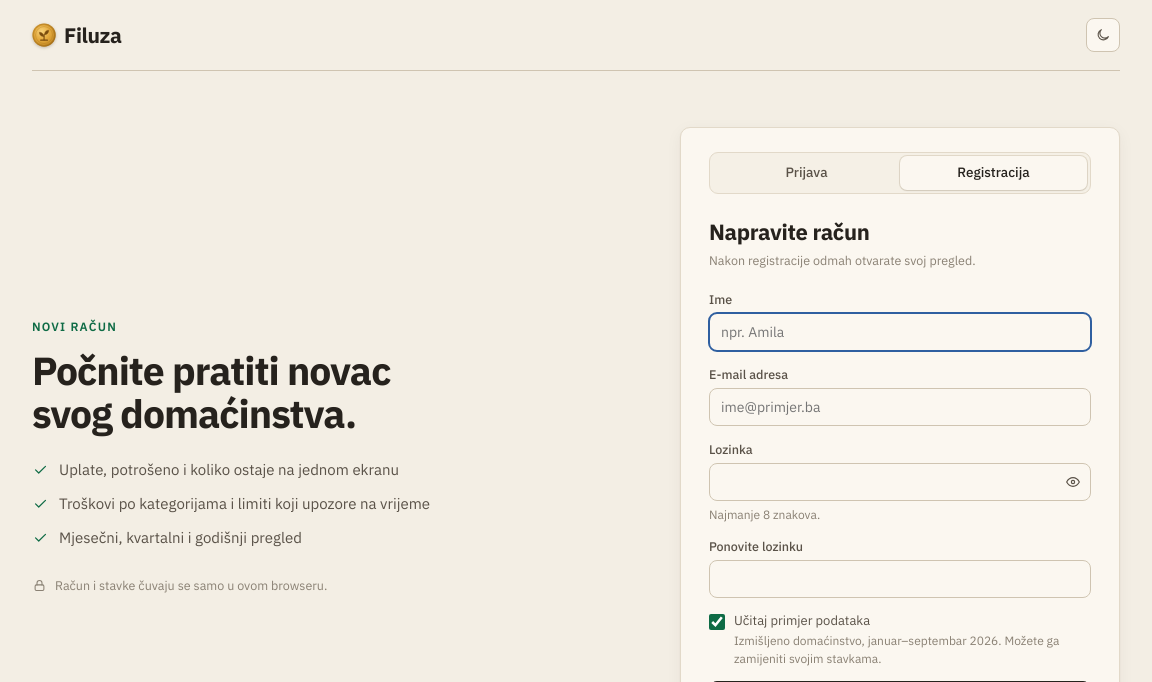
Scenario: registracija › isti e-mail se ne može registrovati dvaput
The image size is (1152, 682).
Type "Druga Amila" into the field labelled "Ime" at (900, 332), box [709,313,1091,351]
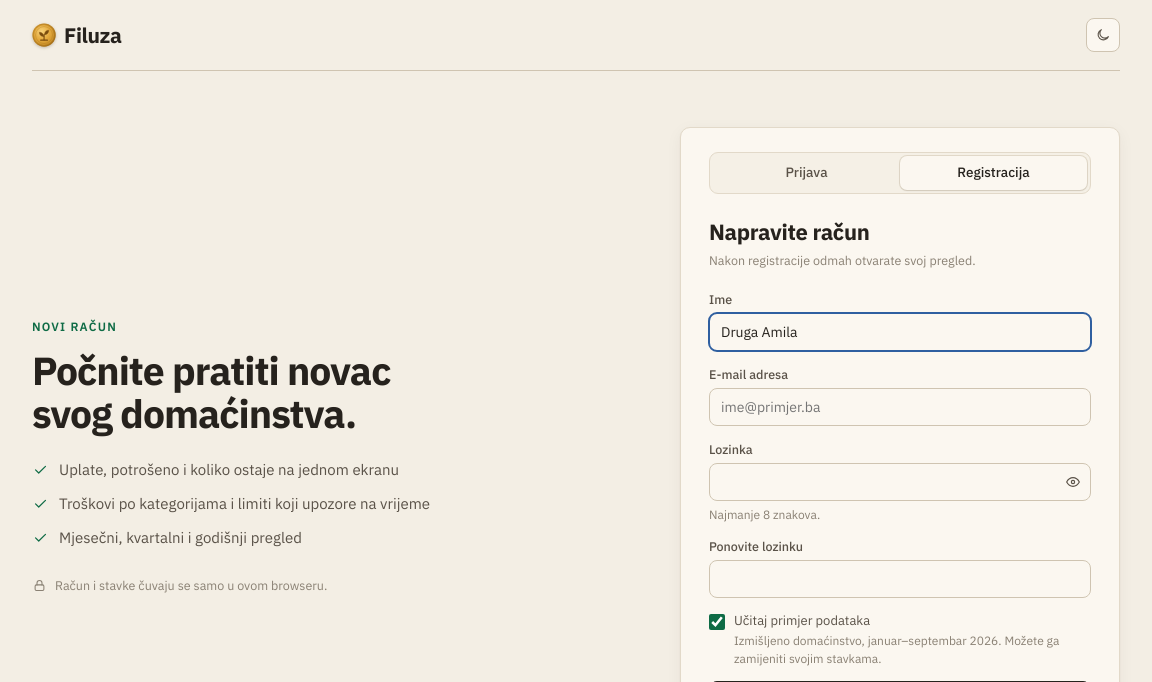
Type "Amila@Primjer.ba" into the field labelled "E-mail adresa" at (900, 407), box [709,388,1091,426]
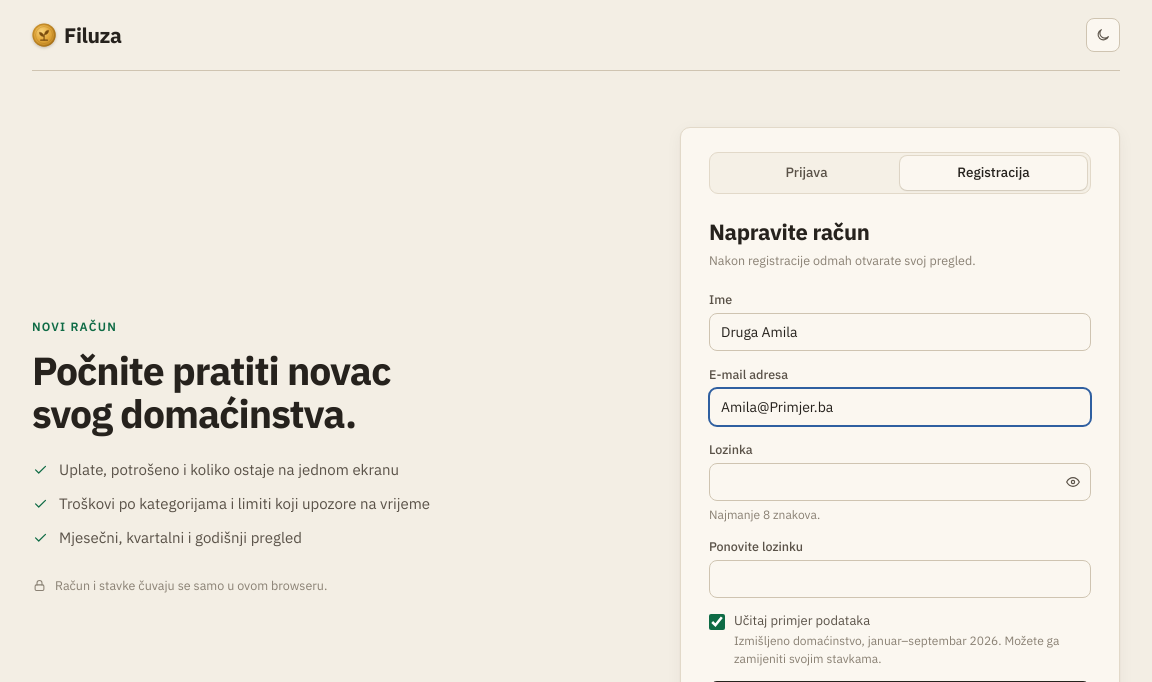
Type "tajna1234" into the password field labelled "Lozinka" at (900, 482), box [709,463,1091,501]
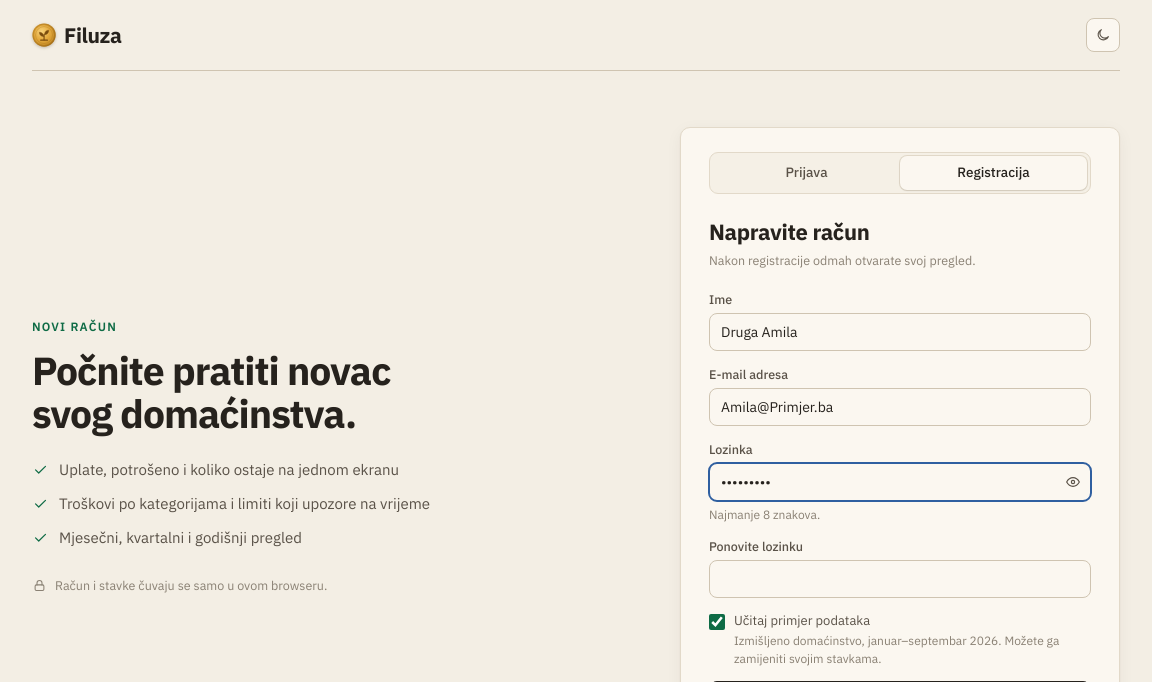
Type "tajna1234" into the password field labelled "Ponovite lozinku" at (900, 580), box [709,560,1091,598]
(page scrolled)
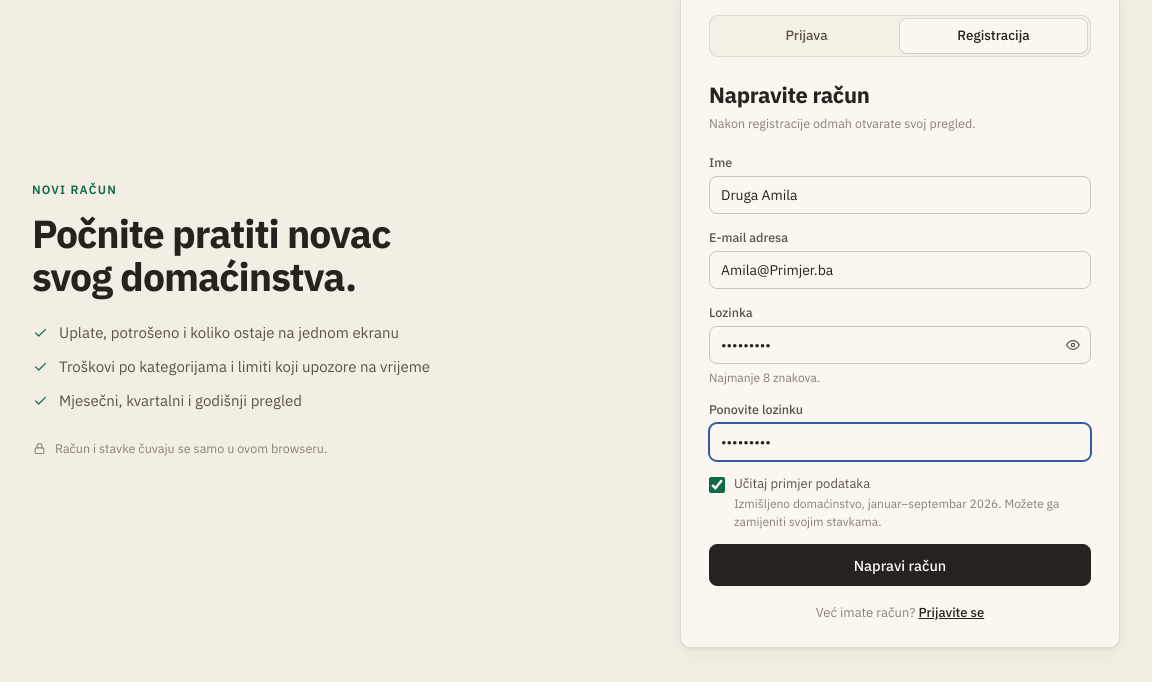
Click the button "Napravi račun" at (900, 565), box [709,544,1091,586]
(page scrolled)
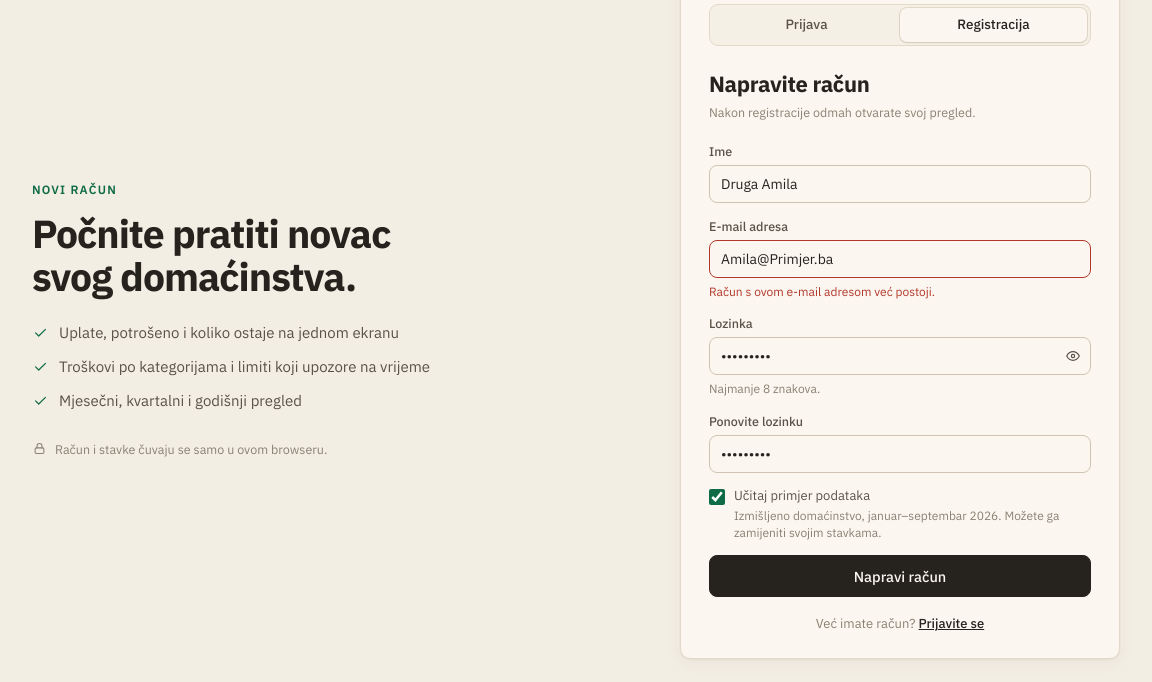
expect the text "Račun s ovom e-mail adresom već postoji." is shown: met, box [709,284,935,299]
